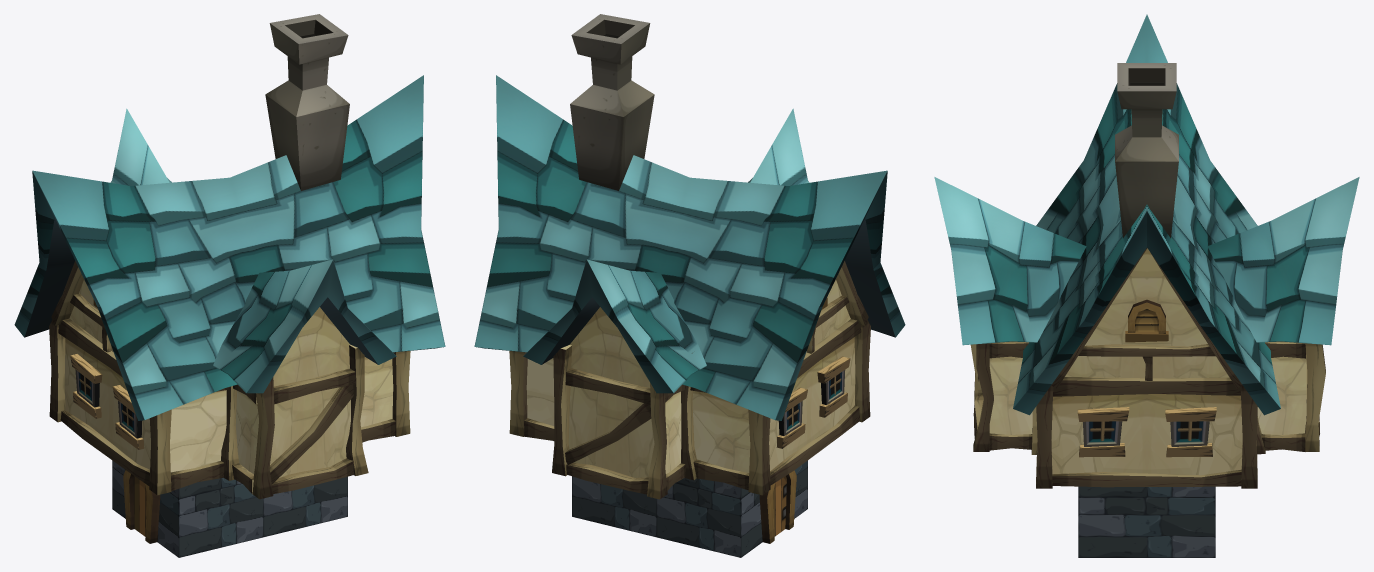
3 renders of one model, left to right at view 1: azimuth 30°, elevation 25°; view 2: azimuth 150°, elevation 25°; view 3: azimuth 270°, elevation 25°, orthographic. The views are drawn at different scales.
Parts seen in each view (by area): view 1: N_H_002; view 2: N_H_002; view 3: N_H_002.
Part boxes in pixels (x1,y1,x2,y2): N_H_002: (14,14,445,557); N_H_002: (474,14,905,557); N_H_002: (934,14,1359,557).
Size of the model in its own units: 23.52 by 26.74 by 21.48.
